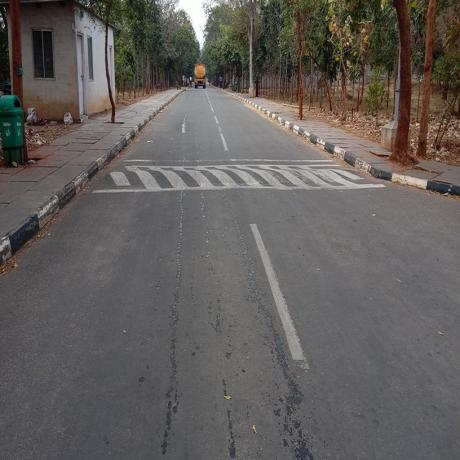Speed Bump: (101, 156, 387, 190)
